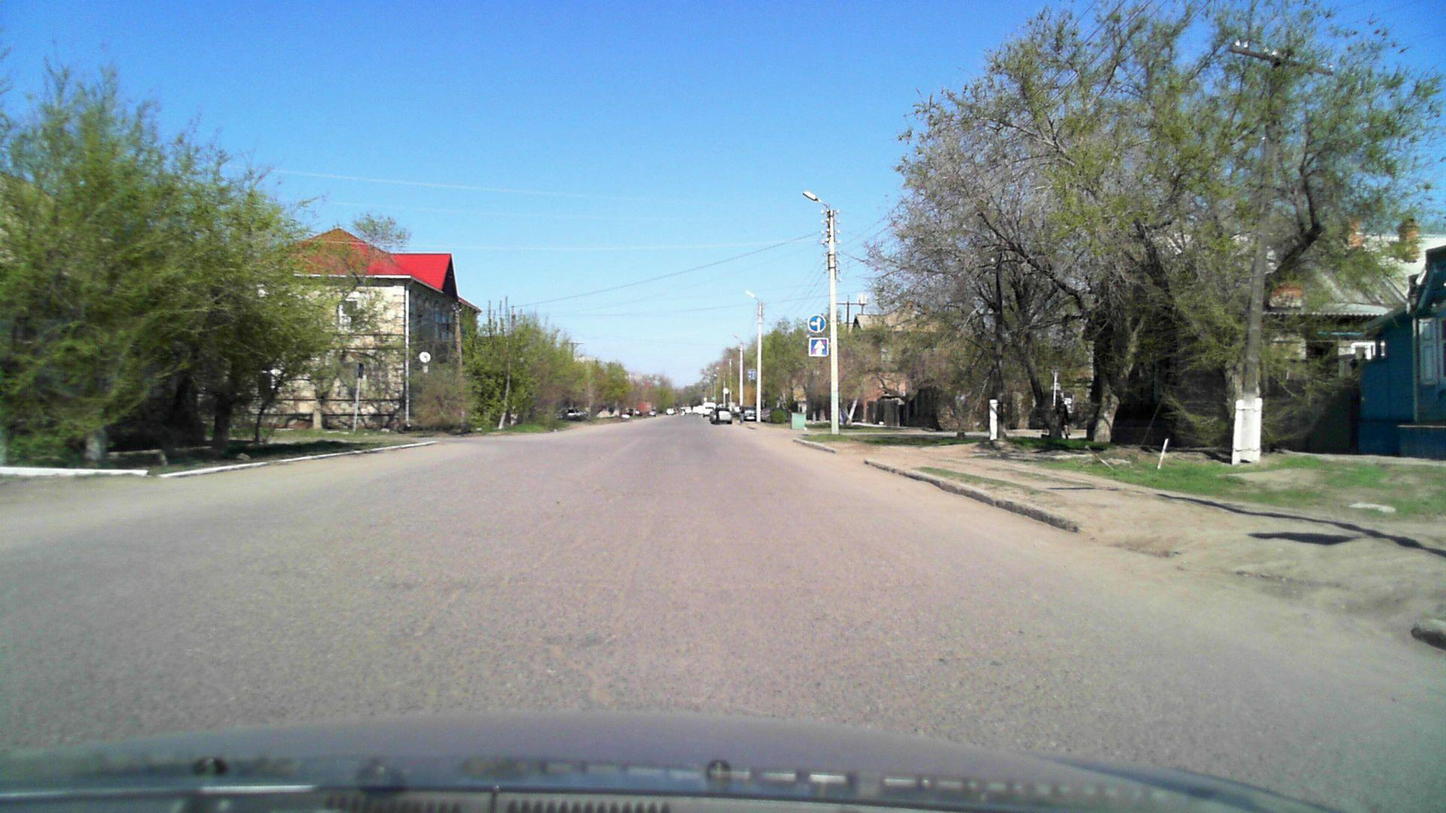road_sign: (809, 337, 828, 357), (806, 314, 826, 333)
